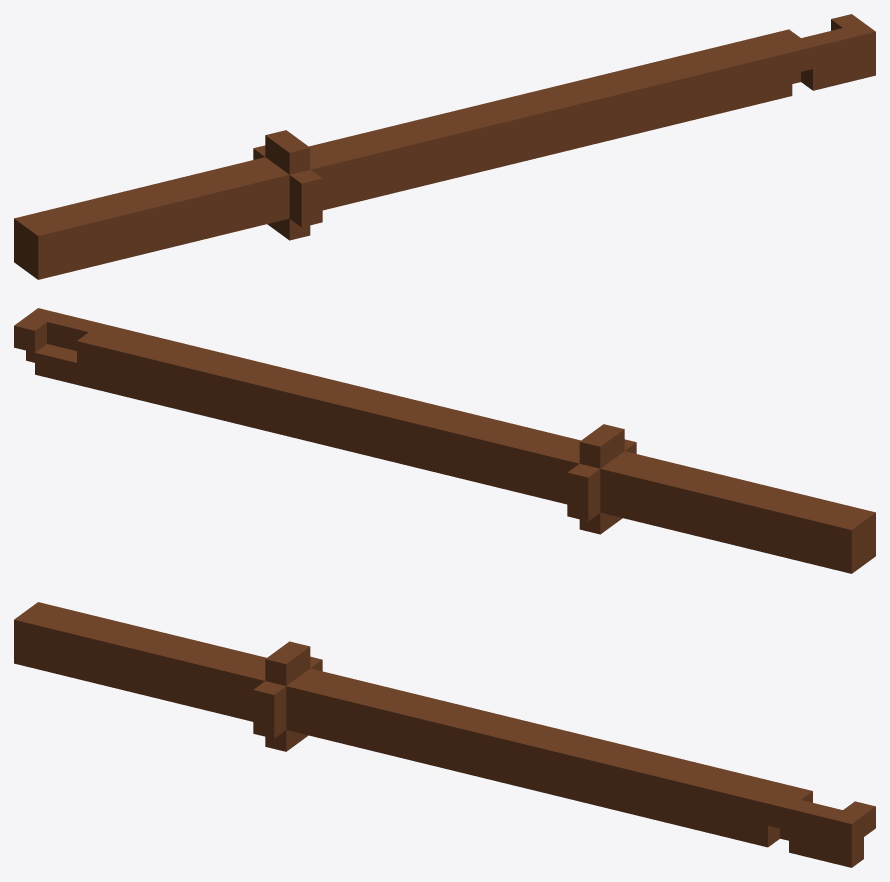
Rendered from stick.glb.
The picture shows the model from 3 angles, top to bottom: view 1: azimuth 30°, elevation 25°; view 2: azimuth 150°, elevation 25°; view 3: azimuth 330°, elevation 25°; orthographic projection.
Parts seen in each view (by area): view 1: material:turnedStock; view 2: material:turnedStock; view 3: material:turnedStock.
Part boxes in pixels (bbox=[...]): material:turnedStock: bbox=[14, 14, 875, 279]; material:turnedStock: bbox=[14, 308, 875, 573]; material:turnedStock: bbox=[14, 602, 875, 867].
Bounding box in the file's own units: 0.4 × 0.04 × 0.04.
